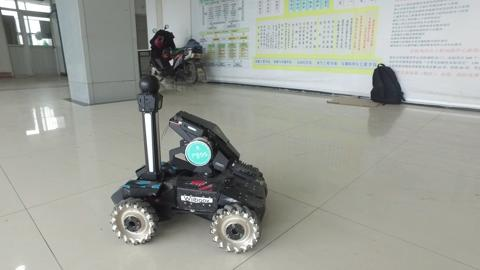bag: (369, 60, 407, 107)
chariot: (107, 74, 268, 255)
